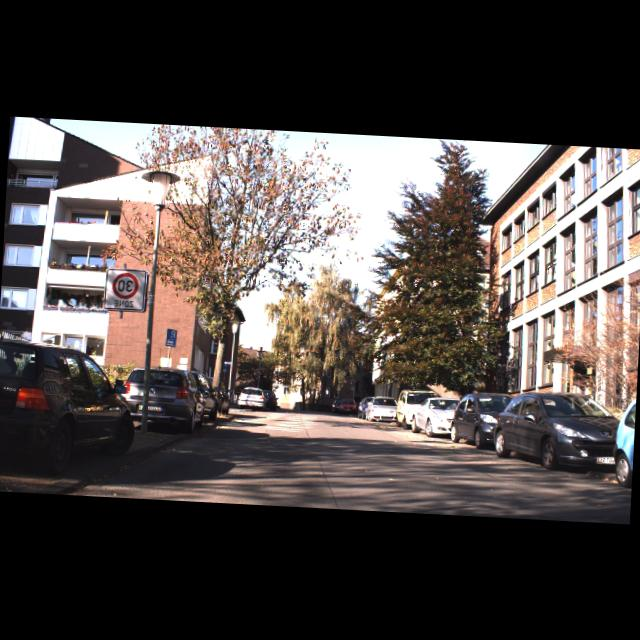prohibitory: (112, 271, 140, 299)
